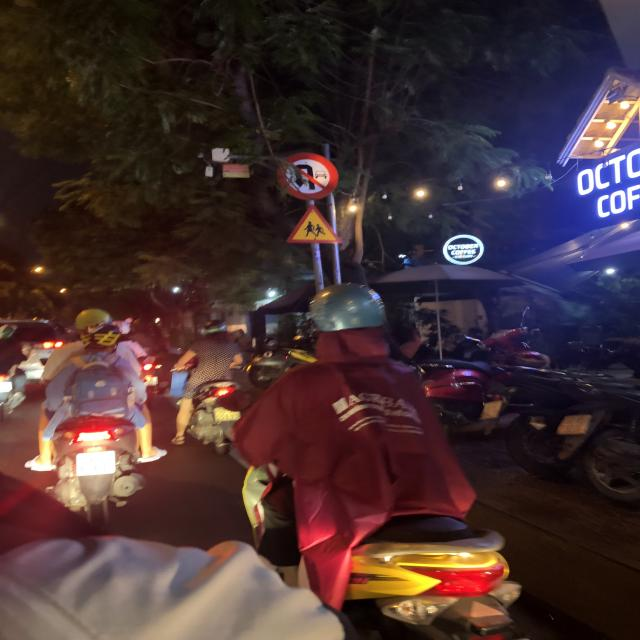Bien bao cam quay dau xe: (272, 150, 340, 202)
Bien bao tre em: (282, 202, 348, 248)
